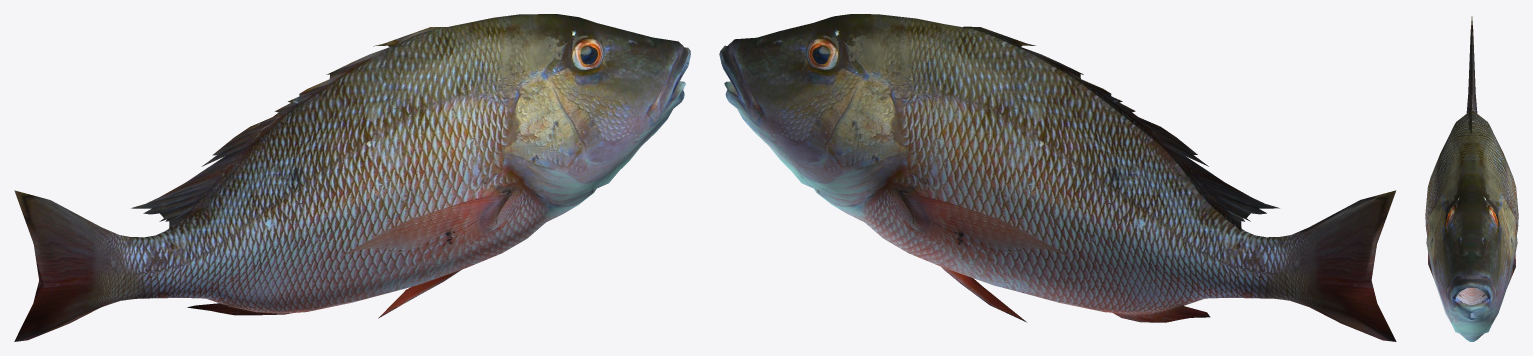
File: fish.glb
3 renders of one model, left to right at view 1: azimuth 30°, elevation 25°; view 2: azimuth 150°, elevation 25°; view 3: azimuth 270°, elevation 25°, orthographic. The views are drawn at different scales.
Parts seen in each view (by area): view 1: fish; view 2: fish; view 3: fish.
Boxes of the visible parts, x1,y1,x2,y2 form: fish: [14, 14, 690, 341]; fish: [719, 14, 1396, 341]; fish: [1425, 16, 1518, 341].
Size of the model in its own units: 28.22 by 11.25 by 4.38.
1 material, 1 textured.
